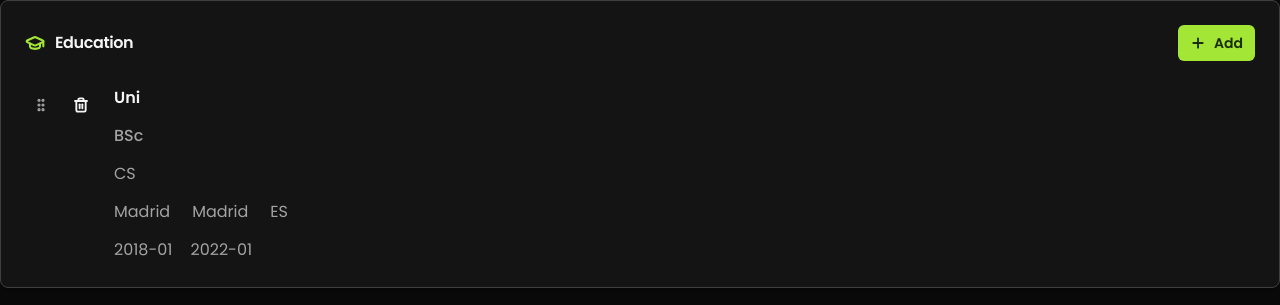
profile editing - immutable saves › immutable original preservation for nested location edit
The width and height of the screenshot is (1280, 305).
Double-click the button with aria-label "Edit City" at (142, 212), box [114,200,170,223]
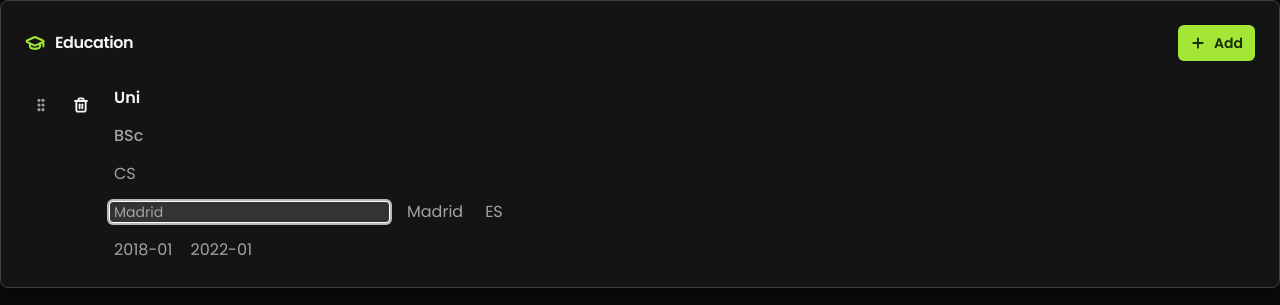
Replace the text in the field named "City" with "Barcelona". click: (250, 212)
box: [109,201,390,223]
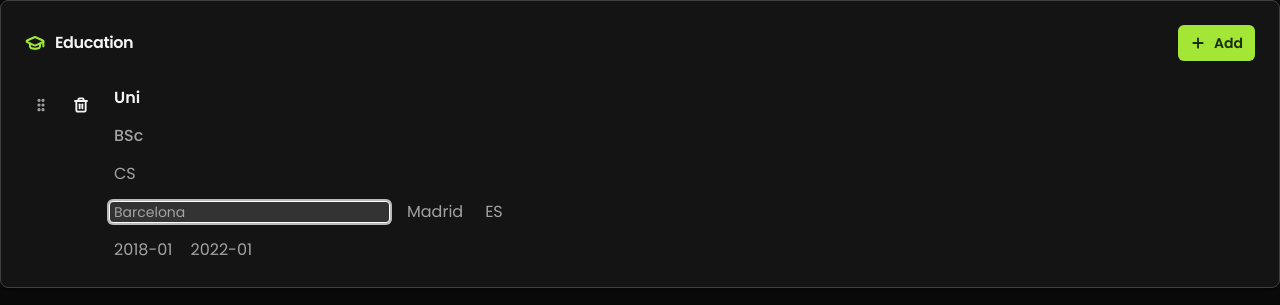
Press Enter
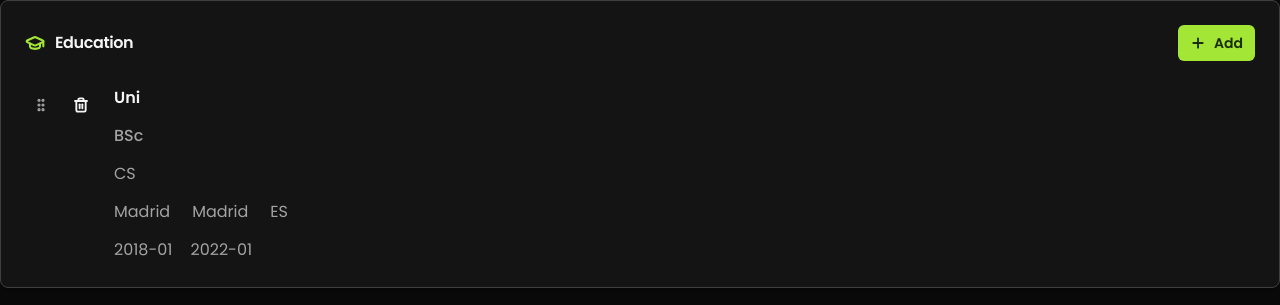
Expected: the 1st button "Madrid" is shown, [114,200,170,223]
